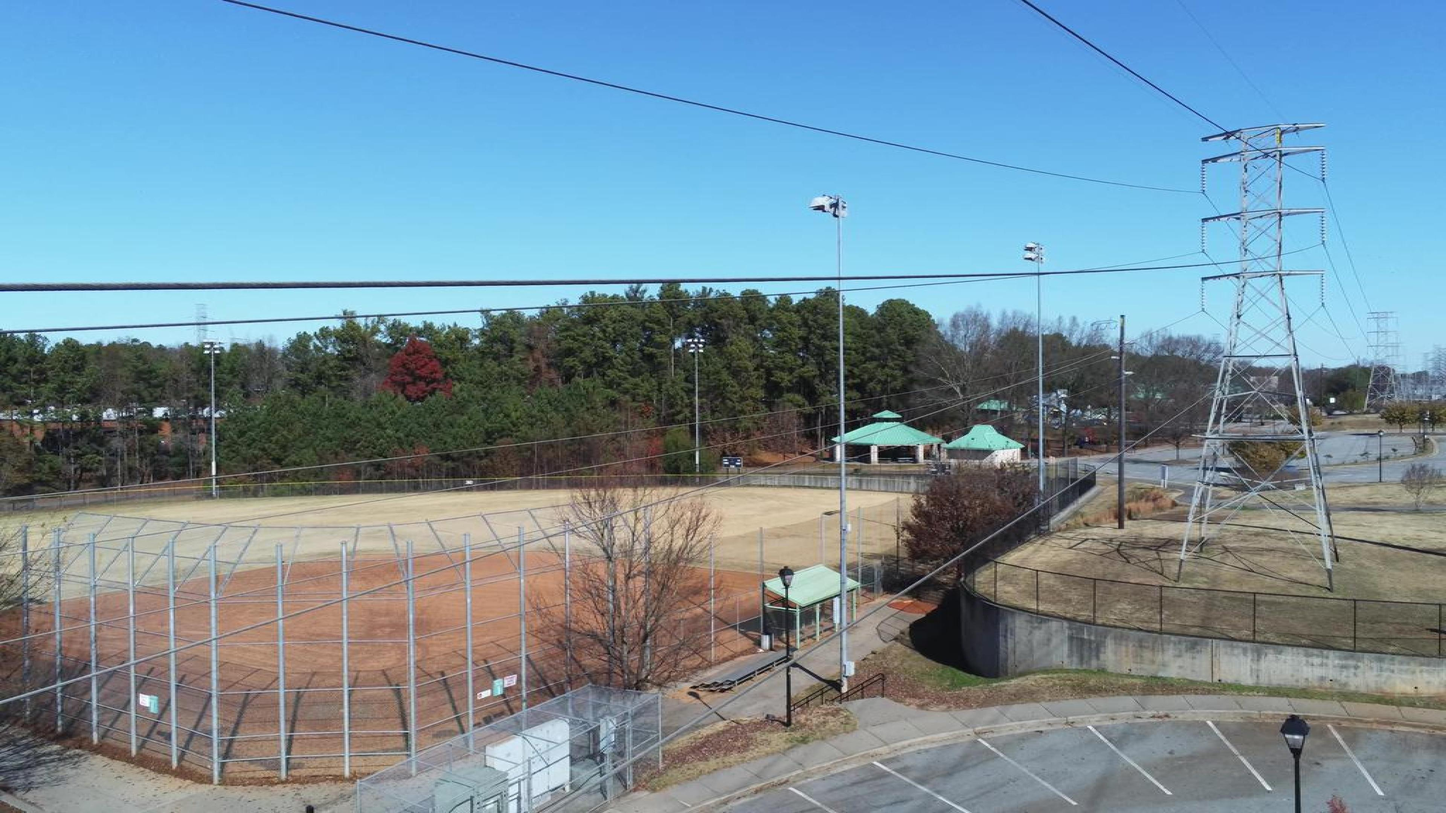power_tower: (1179, 122, 1342, 588), (1364, 309, 1403, 417), (189, 297, 217, 350), (1426, 342, 1446, 403), (226, 325, 254, 346)
